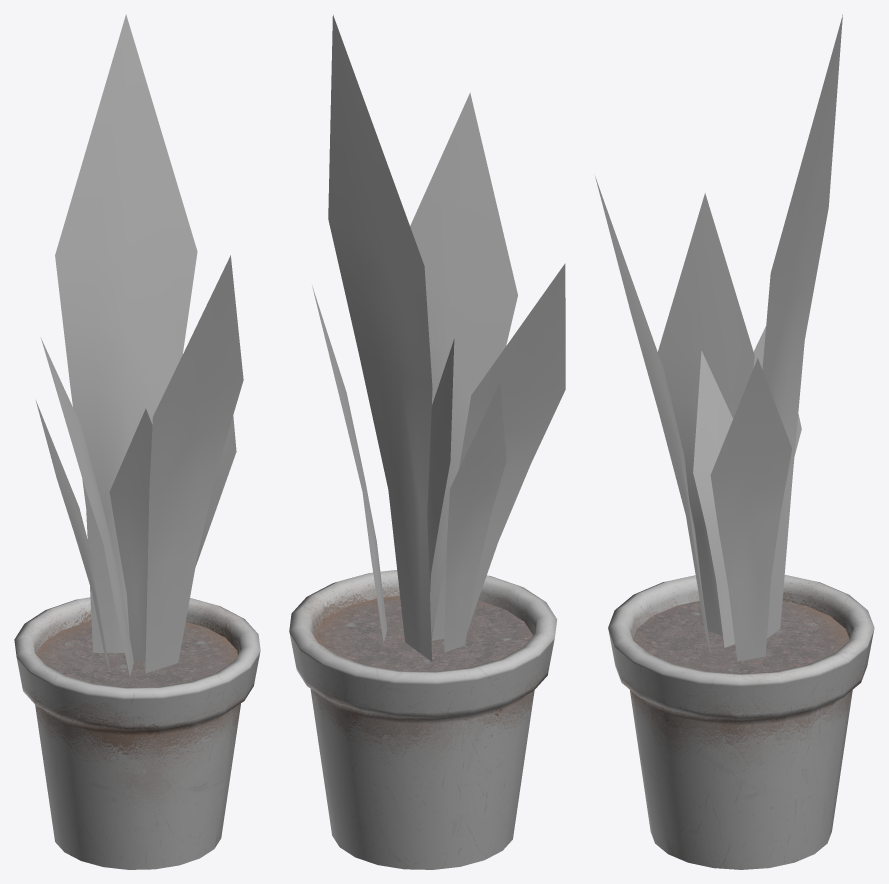
Rendered from SM_FlowerPot_A1.fbx.
The picture shows the model from 3 angles, left to right: view 1: azimuth 30°, elevation 25°; view 2: azimuth 150°, elevation 25°; view 3: azimuth 270°, elevation 25°; orthographic projection. The views are drawn at different scales.
Visible parts, largest first — view 1: SM_FlowerPot_A1; view 2: SM_FlowerPot_A1; view 3: SM_FlowerPot_A1.
Part boxes in pixels (<box>): SM_FlowerPot_A1: <box>14,14,260,869</box>; SM_FlowerPot_A1: <box>289,15,565,869</box>; SM_FlowerPot_A1: <box>595,14,874,869</box>.
Bounding box in the file's own units: 11.9 × 12.14 × 39.99.
2 materials, 1 textured.
